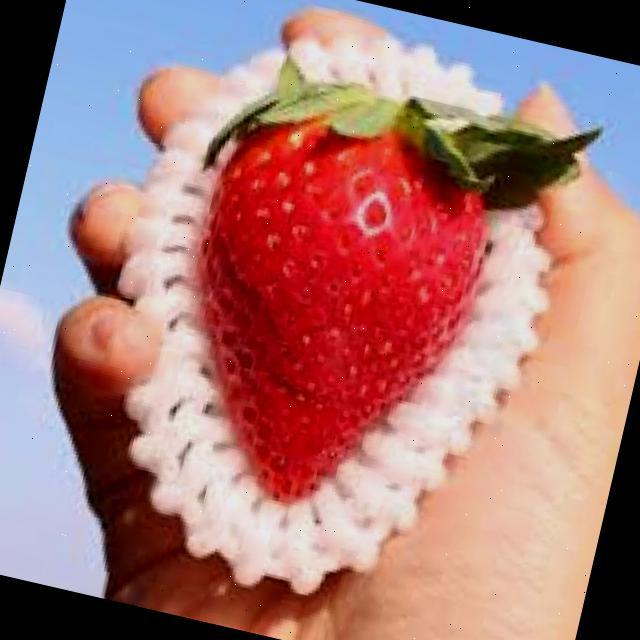ripe: (142, 87, 512, 535)
